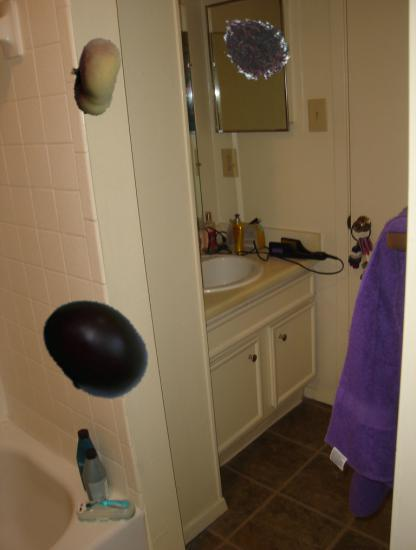Eggplant: (38, 291, 154, 407)
Peach: (56, 37, 135, 116)
Rambutan: (215, 10, 290, 85)
